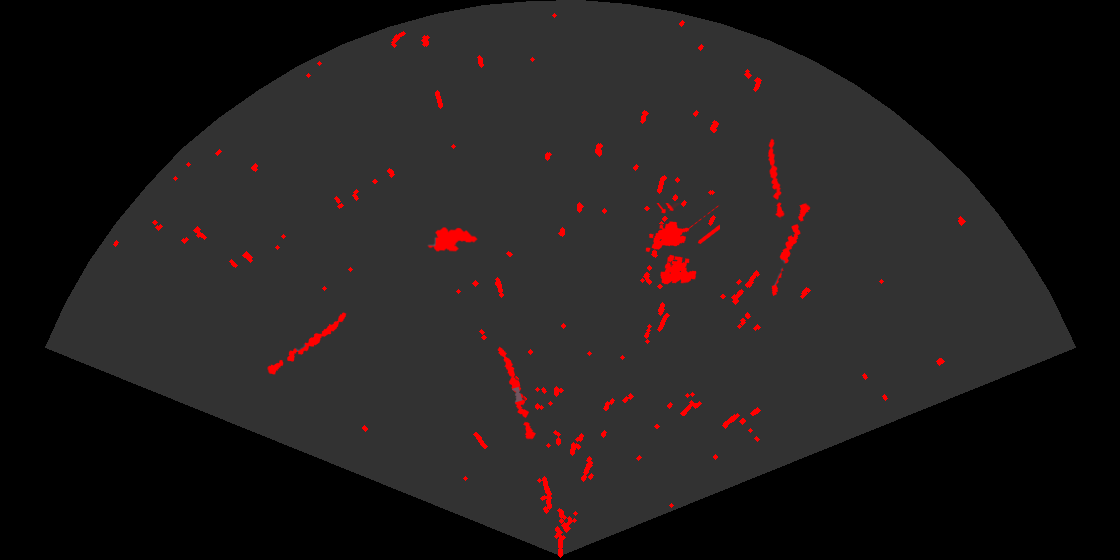AUV: (426, 226, 479, 253)
cage: (644, 203, 720, 286)
chain: (266, 311, 348, 376), (770, 201, 812, 298), (496, 345, 537, 442), (766, 137, 786, 220)
